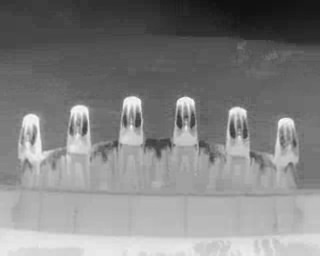claw: (225, 105, 252, 159), (172, 95, 199, 148), (119, 95, 144, 149), (66, 104, 92, 155), (275, 116, 301, 167), (17, 113, 42, 161)
